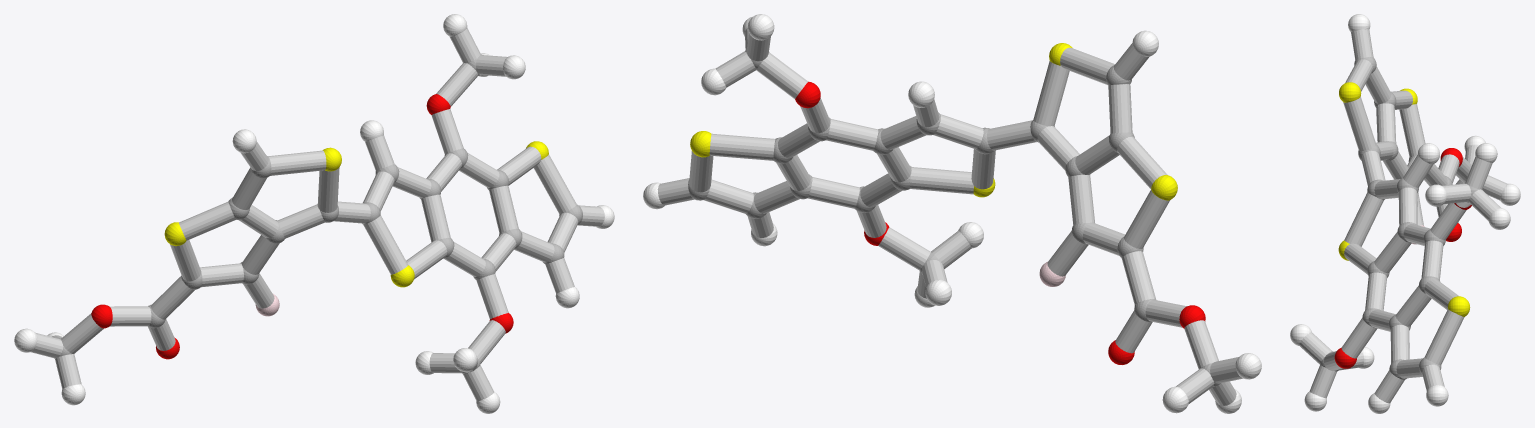
The model's file is color.glb.
The picture shows the model from 3 angles, left to right: view 1: azimuth 30°, elevation 25°; view 2: azimuth 150°, elevation 25°; view 3: azimuth 270°, elevation 25°; orthographic projection. The views are drawn at different scales.
Parts seen in each view (by area): view 1: grp15205, grp8689, grp1, grp7241, grp13395; view 2: grp15205, grp8689, grp1, grp7241, grp13395; view 3: grp15205, grp8689, grp1, grp7241, grp13395.
Boxes of the visible parts, x1,y1,x2,y2 form: grp15205: (30,27,604,401); grp8689: (14,14,614,413); grp1: (54,54,582,373); grp7241: (164,141,548,287); grp13395: (91,94,513,359); grp15205: (657,28,1243,405); grp8689: (643,14,1261,413); grp1: (688,48,1220,386); grp7241: (690,43,1177,200); grp13395: (795,81,1205,364); grp15205: (1299,29,1507,403); grp8689: (1290,14,1520,413); grp1: (1320,57,1478,379); grp7241: (1338,82,1470,316); grp13395: (1334,148,1471,368).
Bounding box in the file's own units: 16.56 × 8.75 × 6.18.
